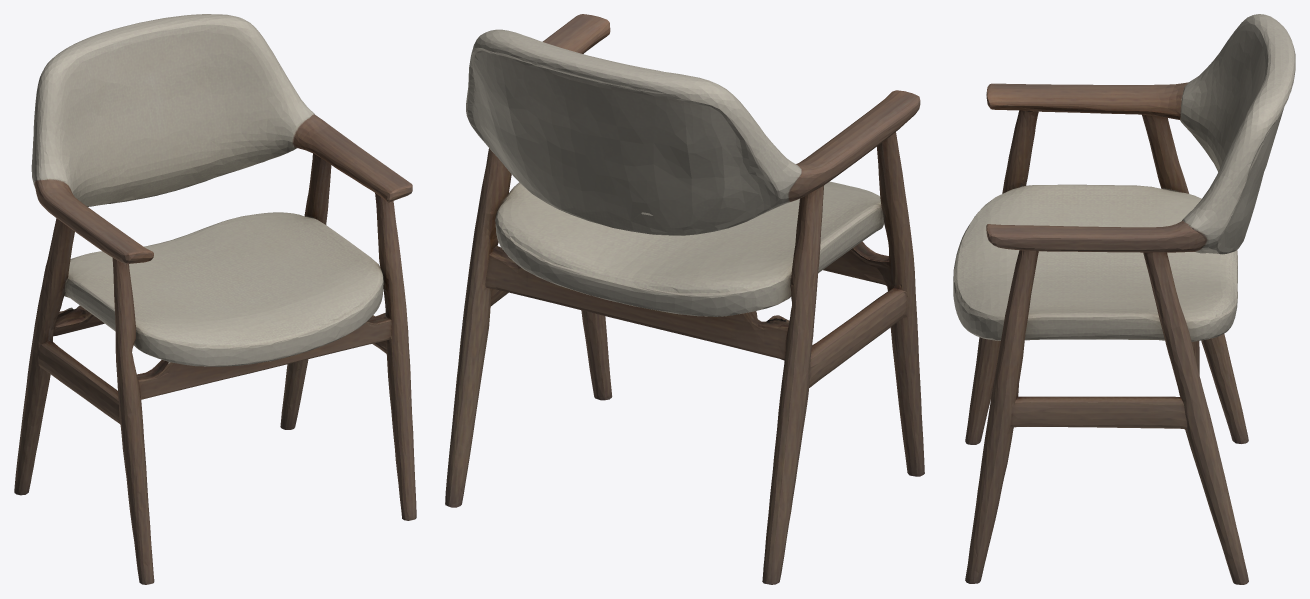
The picture shows the model from 3 angles, left to right: view 1: azimuth 30°, elevation 25°; view 2: azimuth 150°, elevation 25°; view 3: azimuth 270°, elevation 25°; orthographic projection. The views are drawn at different scales.
Visible parts, largest first — view 1: world; view 2: world; view 3: world.
Boxes of the visible parts, x1,y1,x2,y2 form: world: (14, 14, 416, 584); world: (445, 14, 924, 584); world: (953, 14, 1295, 584).
Size of the model in its own units: 0.7263 by 1 by 0.6835.
Materials: 1 (1 with a texture image).
